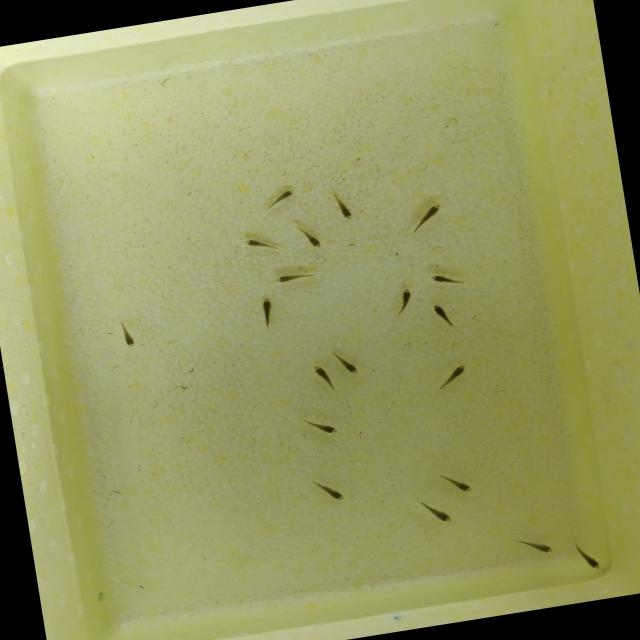fingerling: (322, 186, 361, 223), (407, 199, 453, 230), (256, 270, 317, 288), (266, 182, 298, 211), (389, 285, 421, 314), (438, 361, 472, 387), (240, 230, 276, 254), (423, 266, 458, 290), (334, 351, 364, 379), (516, 536, 556, 557), (253, 295, 280, 326), (114, 322, 142, 351), (298, 225, 324, 255), (576, 545, 602, 574), (447, 476, 478, 498), (316, 481, 347, 503), (432, 299, 452, 331), (426, 503, 452, 527), (311, 360, 333, 388), (313, 420, 339, 438)
